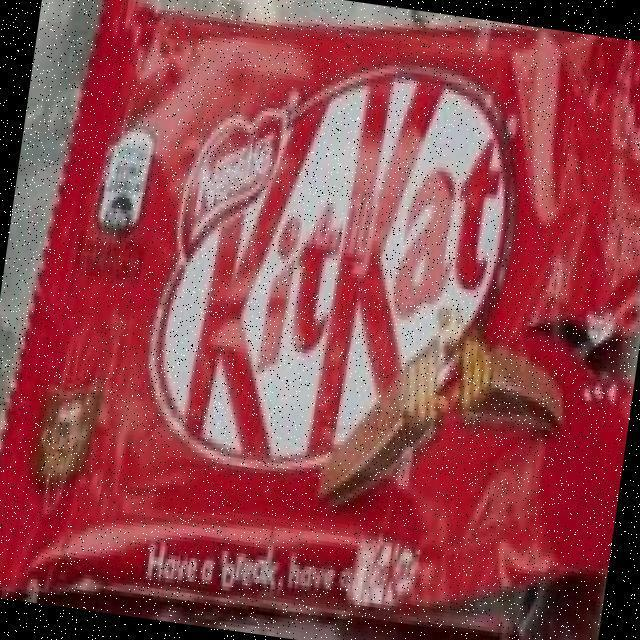Dry Waste: (6, 6, 640, 600)
